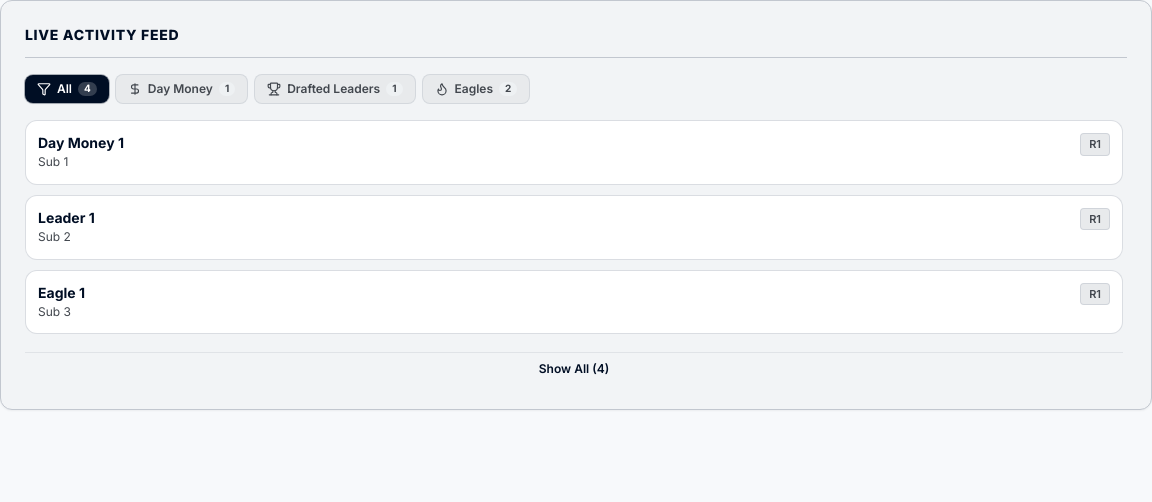
it: LiveActivityFeed Component › limits default display to top 3 items and toggles expansion
This screenshot has width=1152, height=502.
expect the heading "Day Money 1" is shown: met, box [38,134,124,151]
expect the heading "Leader 1" is shown: met, box [38,209,95,226]
# Click Show All button
Click the button "Show All (4)": (574, 369) [25,352,1123,385]
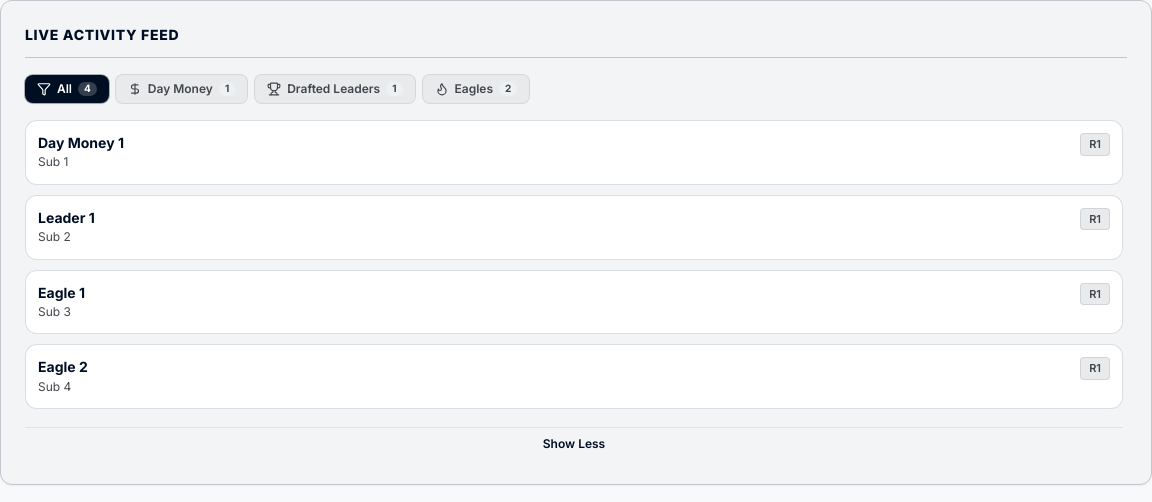
expect the heading "Eagle 2" is shown: met, box [38,358,88,375]
# Click Show Less
Click the button "Show Less": (574, 444) [25,427,1123,460]
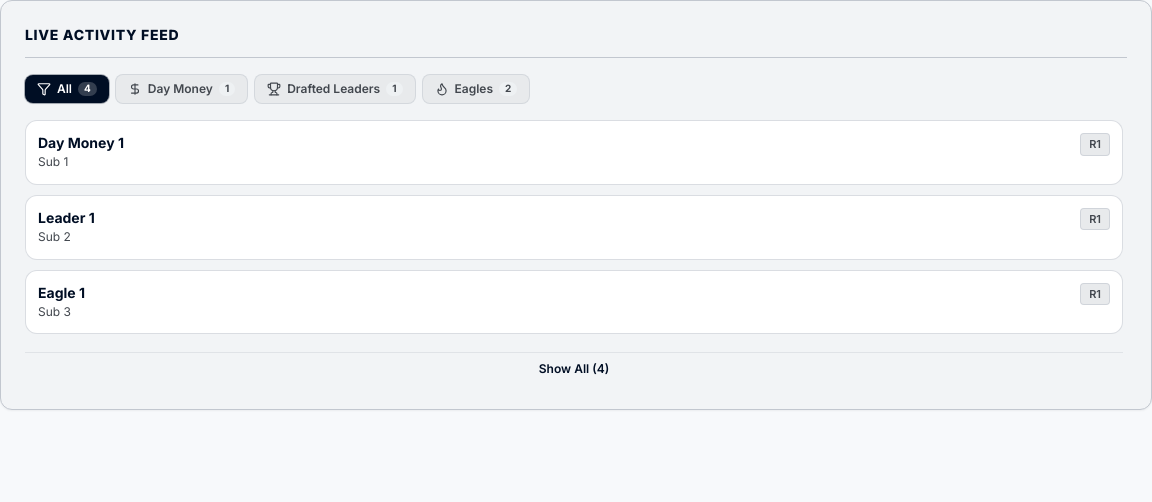
expect the heading "Eagle 2" is gone: met
